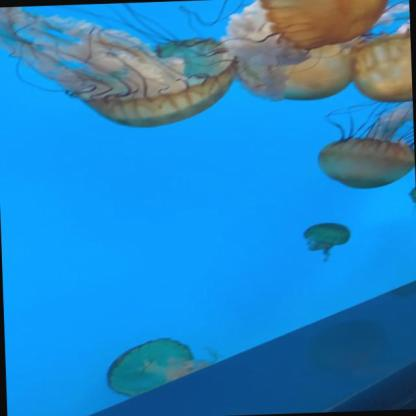jellyfish: (254, 0, 393, 51), (409, 188, 416, 206)
stingray: (58, 35, 239, 132), (216, 0, 372, 103), (314, 132, 415, 192), (102, 336, 198, 399), (342, 27, 412, 106), (301, 219, 354, 247), (408, 180, 416, 207)
